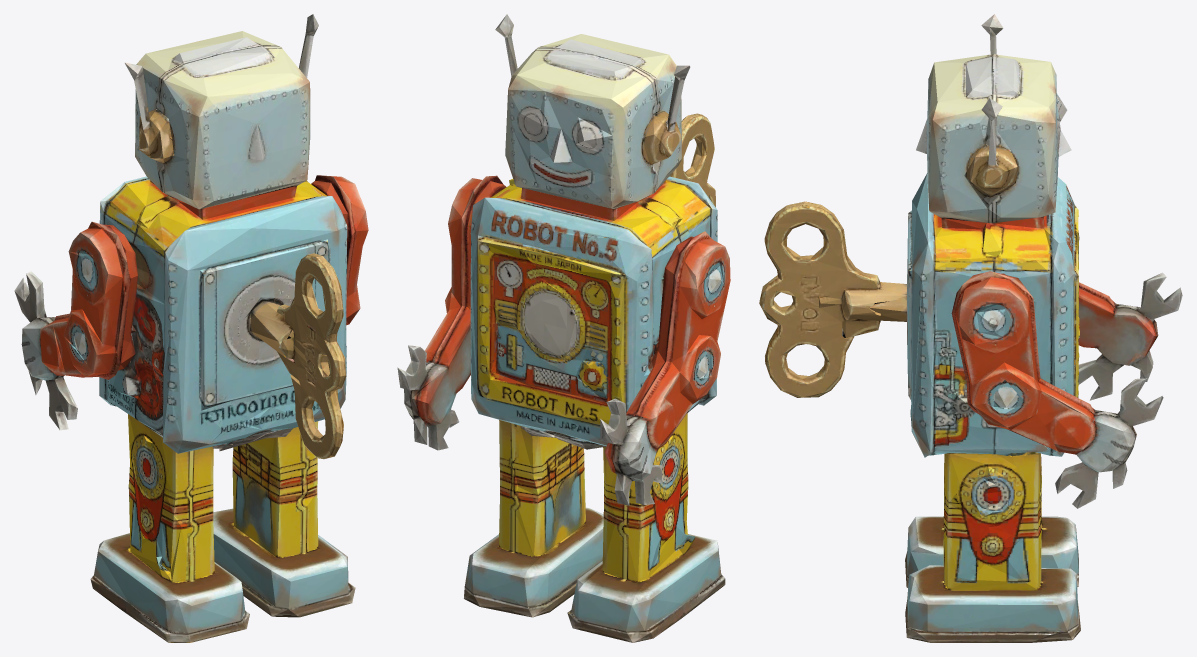
The model's file is P_WindupRobot.obj.
3 views of the same model, side by side, from view 1: azimuth 30°, elevation 25°; view 2: azimuth 150°, elevation 25°; view 3: azimuth 270°, elevation 25° (orthographic). The views are drawn at different scales.
Size of the model in its own units: 0.6792 by 1.38 by 0.9732.
Materials: 18 (18 with a texture image).
